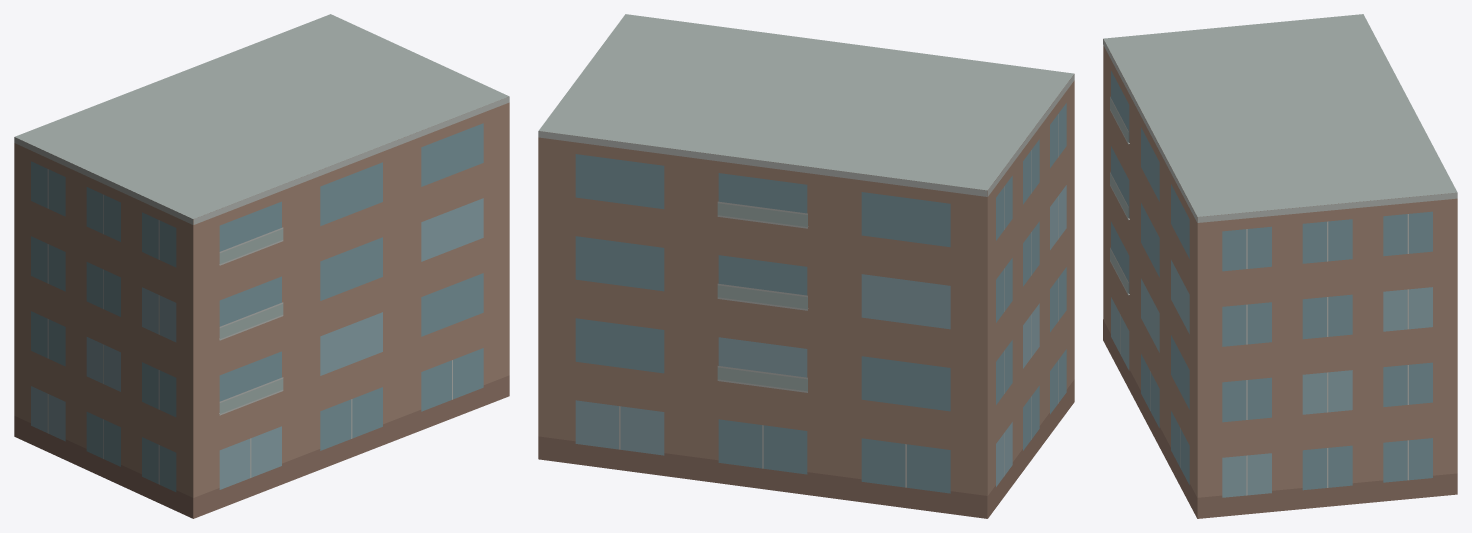
File: residential-1e7bfc78-596a-4081-8cac-27284660762c.glb
3 renders of one model, left to right at view 1: azimuth 30°, elevation 25°; view 2: azimuth 150°, elevation 25°; view 3: azimuth 270°, elevation 25°, orthographic. The views are drawn at different scales.
Parts seen in each view (by area): view 1: residential-1e7bfc78-596a-4081-8cac-27284660762c.tmp; view 2: residential-1e7bfc78-596a-4081-8cac-27284660762c.tmp; view 3: residential-1e7bfc78-596a-4081-8cac-27284660762c.tmp.
Part boxes in pixels (box(x1,y1,x2,y2)): residential-1e7bfc78-596a-4081-8cac-27284660762c.tmp: box(14, 14, 509, 518); residential-1e7bfc78-596a-4081-8cac-27284660762c.tmp: box(538, 14, 1074, 518); residential-1e7bfc78-596a-4081-8cac-27284660762c.tmp: box(1103, 14, 1457, 518).
Size of the model in its own units: 17.6 by 12.2 by 12.99.
